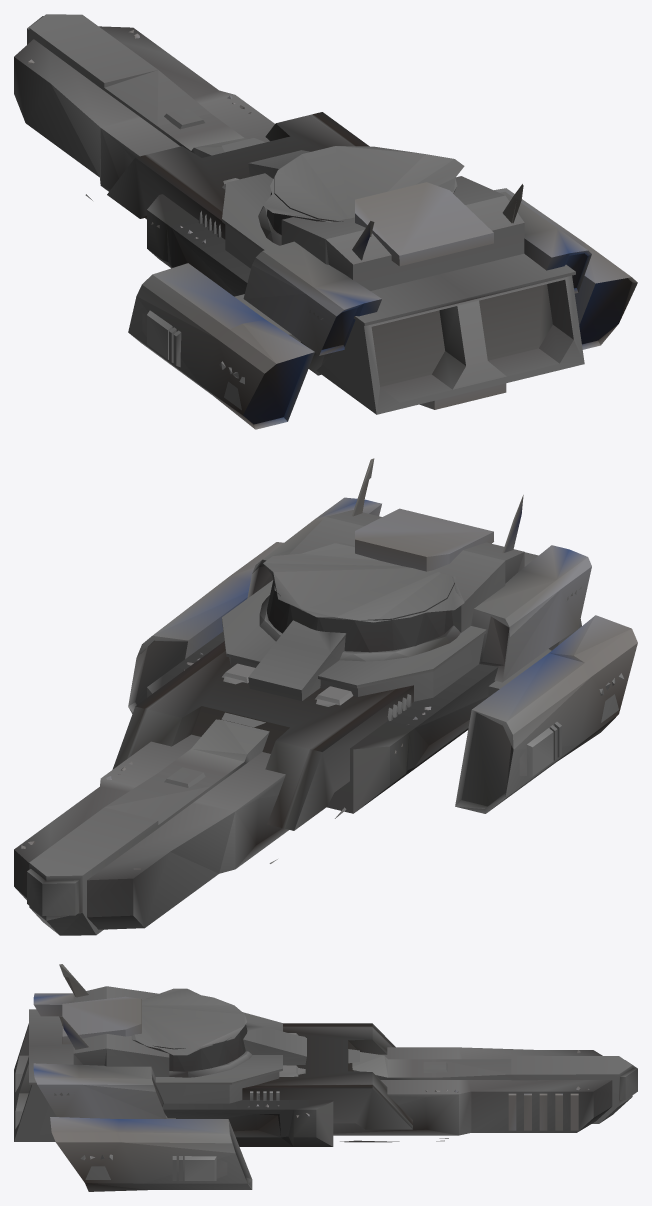
File: insurgent.glb
3 views of the same model, one above another, from view 1: azimuth 30°, elevation 25°; view 2: azimuth 150°, elevation 25°; view 3: azimuth 270°, elevation 25° (orthographic). The views are drawn at different scales.
Parts seen in each view (by area): view 1: Insurgent; view 2: Insurgent; view 3: Insurgent.
Boxes of the visible parts, left/top/right/bottom form: Insurgent: left=14, top=14, right=637, bottom=429; Insurgent: left=14, top=458, right=637, bottom=935; Insurgent: left=14, top=964, right=637, bottom=1191.
Bounding box in the file's own units: 0.5083 × 0.2621 × 1.
